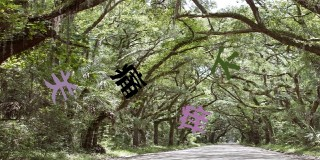不: (210, 45, 241, 78)
关: (40, 70, 79, 106)
痒: (177, 102, 211, 134)
痛: (109, 62, 146, 100)
